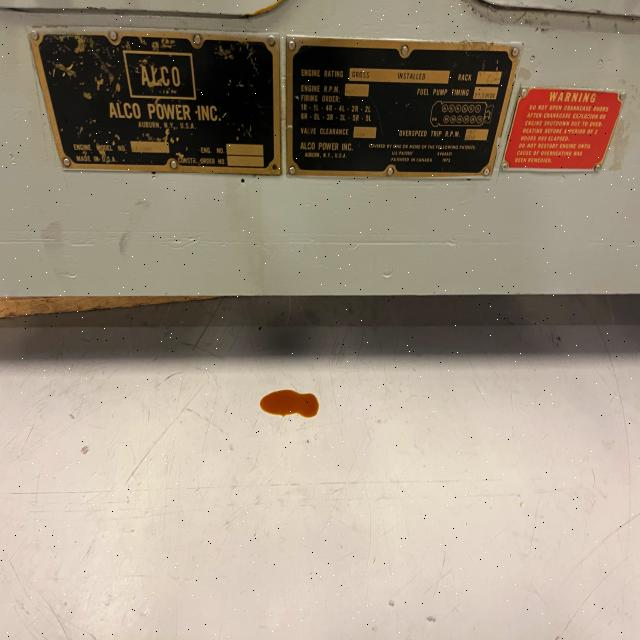Oil Leak: (260, 390, 319, 418)
